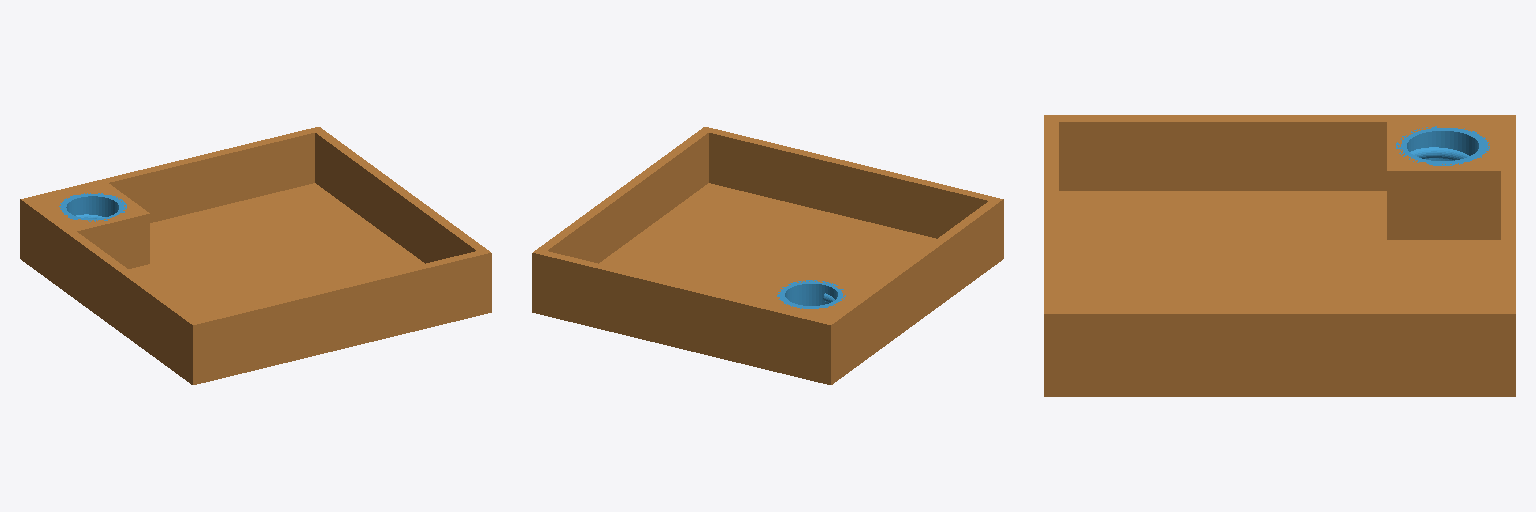
URDF robot description (one_leg_receptive_sdf_hybrid_flat):
<?xml version="1.0" encoding="utf-8"?>
<!--
  Flat-receiver variant of one_leg_sdf_hybrid. Same picture-frame table
  (thin floor slab + 4 perimeter rim walls) as the non-flat variant,
  but the active-corner geometry is split into two cleanly-tiling
  meshes:
    H1 = S − C  (one_leg_flat_H1.obj)
      S = square box side 38.76 mm, z ∈ [-10.6, +15.6] mm centered at
          the active hole. The +Y edge sits flush with the closest rim
          wall's inner face.
      C = cylinder radius 15 mm, same XY axis, z ∈ [-11.6, +15.6] mm
          (slightly taller so the subtraction clips through).
      H1 provides the local flat table surface around the hole, with a
      clean cylindrical bore cutout in the middle.

    Active screw hole = unchanged hole_detail mesh.
      Conceptually C ∩ H, but in practice the full hole_detail is used:
      PhysX handles the 1.26 mm SDF overlap with H1 in r ∈ [15, 16.26]
      mm safely (same rigid link). The visible bore wall above is then
      a tiny coplanar ring (z=+15.625) where the GPU may z-fight between
      the bulk and hole_detail colors — purely aesthetic, no physics
      effect. For 3D print we union H1 ∪ hole_detail (after
      merge_vertices) into a single solid mesh.

  The 3 inactive-corner cylinder mocks are removed.
-->
<robot name="one_leg_receptive_sdf_hybrid_flat">
  <link name="receptive">
    <!-- Thin floor slab (unchanged). -->
    <visual>
      <origin xyz="0.000000 0.000000 -0.013125" rpy="0.000000 0.000000 0.000000"/>
      <geometry><box size="0.162500 0.162501 0.005000"/></geometry>
      <material name="bulk"/>
    </visual>
    <collision>
      <origin xyz="0.000000 0.000000 -0.013125" rpy="0.000000 0.000000 0.000000"/>
      <geometry><box size="0.162500 0.162501 0.005000"/></geometry>
    </collision>

    <!-- 4 perimeter rim walls (unchanged). -->
    <visual>
      <origin xyz="0.000000 0.078751 0.002500" rpy="0.000000 0.000000 0.000000"/>
      <geometry><box size="0.162500 0.005000 0.026250"/></geometry>
      <material name="bulk"/>
    </visual>
    <collision>
      <origin xyz="0.000000 0.078751 0.002500" rpy="0.000000 0.000000 0.000000"/>
      <geometry><box size="0.162500 0.005000 0.026250"/></geometry>
    </collision>
    <visual>
      <origin xyz="0.000000 -0.078751 0.002500" rpy="0.000000 0.000000 0.000000"/>
      <geometry><box size="0.162500 0.005000 0.026250"/></geometry>
      <material name="bulk"/>
    </visual>
    <collision>
      <origin xyz="0.000000 -0.078751 0.002500" rpy="0.000000 0.000000 0.000000"/>
      <geometry><box size="0.162500 0.005000 0.026250"/></geometry>
    </collision>
    <visual>
      <origin xyz="0.078750 0.000000 0.002500" rpy="0.000000 0.000000 0.000000"/>
      <geometry><box size="0.005000 0.152501 0.026250"/></geometry>
      <material name="bulk"/>
    </visual>
    <collision>
      <origin xyz="0.078750 0.000000 0.002500" rpy="0.000000 0.000000 0.000000"/>
      <geometry><box size="0.005000 0.152501 0.026250"/></geometry>
    </collision>
    <visual>
      <origin xyz="-0.078750 0.000000 0.002500" rpy="0.000000 0.000000 0.000000"/>
      <geometry><box size="0.005000 0.152501 0.026250"/></geometry>
      <material name="bulk"/>
    </visual>
    <collision>
      <origin xyz="-0.078750 0.000000 0.002500" rpy="0.000000 0.000000 0.000000"/>
      <geometry><box size="0.005000 0.152501 0.026250"/></geometry>
    </collision>

    <!-- H1 = S − C: flat tabletop around the hole with cylindrical
         bore cutout in the middle. -->
    <visual name="H1_v">
      <origin xyz="0 0 0" rpy="0 0 0"/>
      <geometry>
        <mesh filename="../hole_patches/sdf_hybrid/one_leg_flat_H1.obj" scale="1 1 1"/>
      </geometry>
      <material name="bulk"/>
    </visual>
    <collision name="H1_c">
      <origin xyz="0 0 0" rpy="0 0 0"/>
      <geometry>
        <mesh filename="../hole_patches/sdf_hybrid/one_leg_flat_H1.obj" scale="1 1 1"/>
      </geometry>
      <sdf resolution="256"/>
    </collision>

    <!-- H2 = C ∩ H: threaded screw bore (hole_detail trimmed to r ≤ 15 mm). -->
    <visual name="H2_v">
      <origin xyz="0 0 0" rpy="0 0 0"/>
      <geometry>
        <mesh filename="../hole_patches/sdf_hybrid/one_leg_hole_detail.obj" scale="1 1 1"/>
      </geometry>
      <material name="hole_detail"/>
    </visual>
    <collision name="H2_c">
      <origin xyz="0 0 0" rpy="0 0 0"/>
      <geometry>
        <mesh filename="../hole_patches/sdf_hybrid/one_leg_hole_detail.obj" scale="1 1 1"/>
      </geometry>
      <sdf resolution="256"/>
    </collision>
  </link>

  <material name="bulk">
    <color rgba="0.78 0.55 0.30 1.0"/>
  </material>
  <material name="hole_detail">
    <color rgba="0.30 0.65 0.85 1.0"/>
  </material>
</robot>

--- Render facts (derived) ---
Views: 3 orthographic renders of the robot side by side, from view 1: azimuth 30°, elevation 25°; view 2: azimuth 150°, elevation 25°; view 3: azimuth 270°, elevation 25°.
Model one_leg_receptive_sdf_hybrid_flat with 1 links and 0 joints (none), rooted at receptive, posed all joints at 0.
Links seen in each view (by area): view 1: receptive; view 2: receptive; view 3: receptive.
Boxes of the visible links, bbox=[...] form: receptive: bbox=[20, 127, 491, 384]; receptive: bbox=[532, 127, 1003, 384]; receptive: bbox=[1044, 115, 1515, 396].
Size in the robot's own frame: 0.1625 by 0.1625 by 0.0312 metres.
Meshes: 2 distinct files referenced, 2 mesh visuals loaded (2 OBJ).
